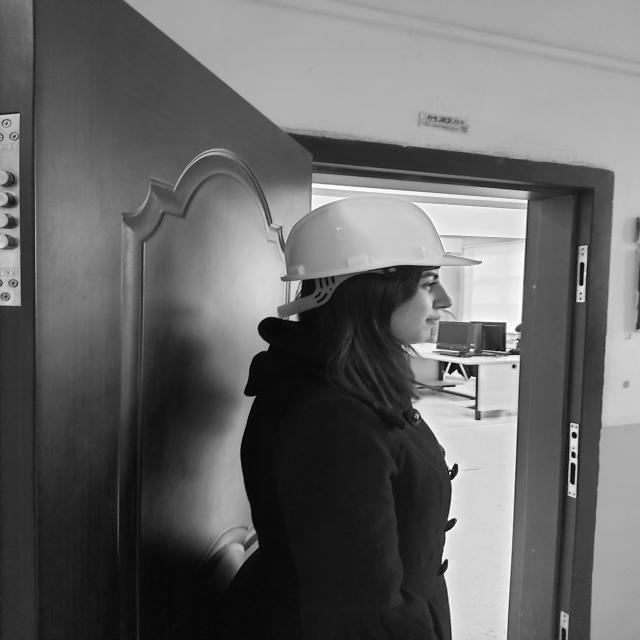construction helmet: (281, 198, 481, 290)
